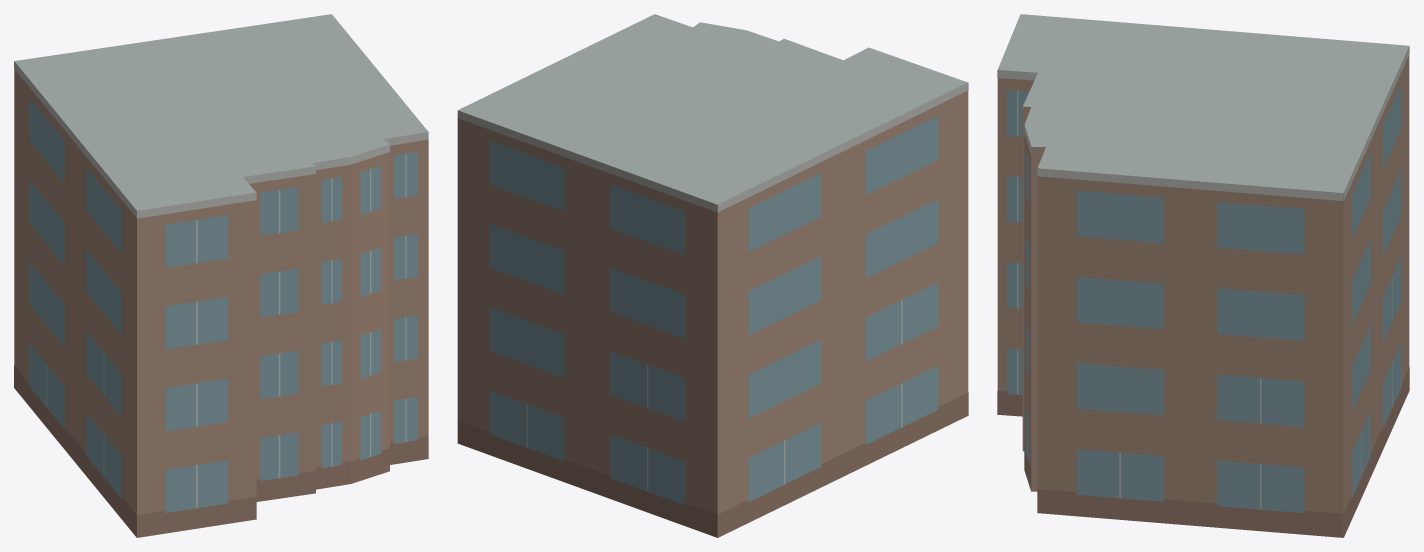
File: survey-upis-32701801.glb
The picture shows the model from 3 angles, left to right: view 1: azimuth 30°, elevation 25°; view 2: azimuth 150°, elevation 25°; view 3: azimuth 270°, elevation 25°; orthographic projection. The views are drawn at different scales.
Visible parts, largest first — view 1: survey-upis-32701801.tmp; view 2: survey-upis-32701801.tmp; view 3: survey-upis-32701801.tmp.
Part boxes in pixels (bbox=[...]): survey-upis-32701801.tmp: bbox=[14, 14, 428, 537]; survey-upis-32701801.tmp: bbox=[457, 14, 968, 537]; survey-upis-32701801.tmp: bbox=[997, 14, 1409, 537].
Bounding box in the file's own units: 11.71 × 10.5 × 11.38.
